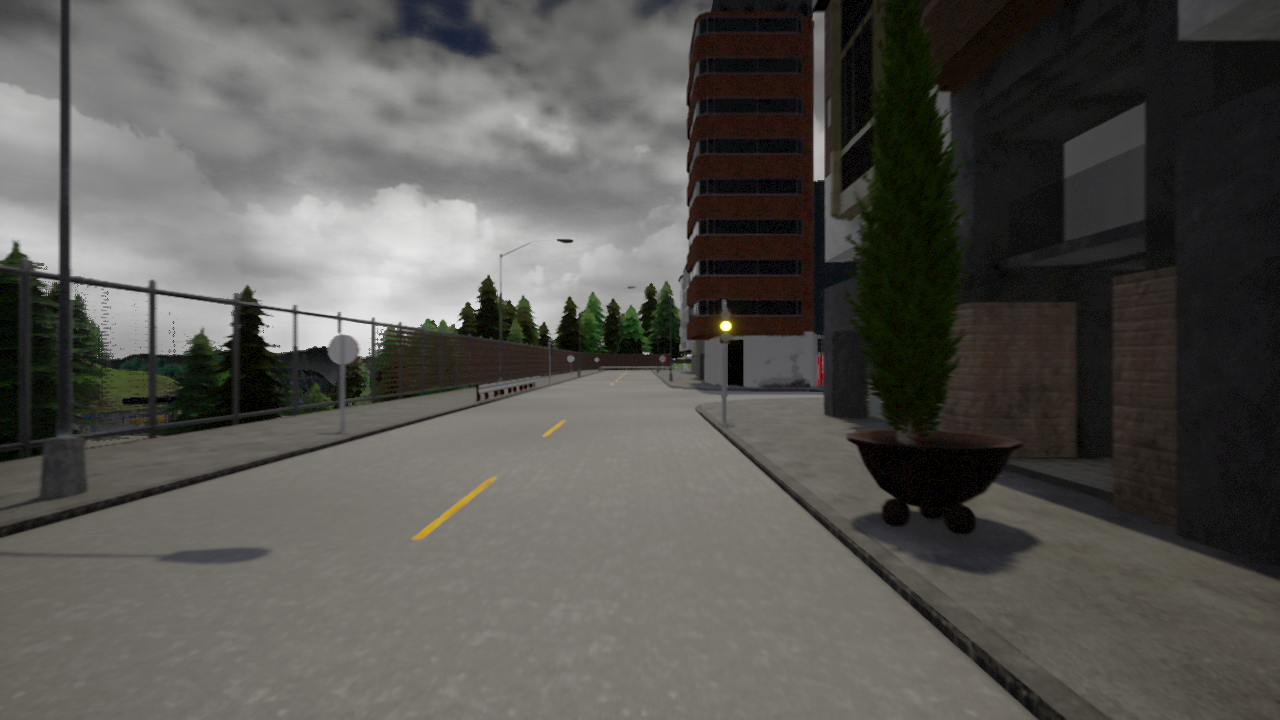yellow: (716, 307, 734, 342)
